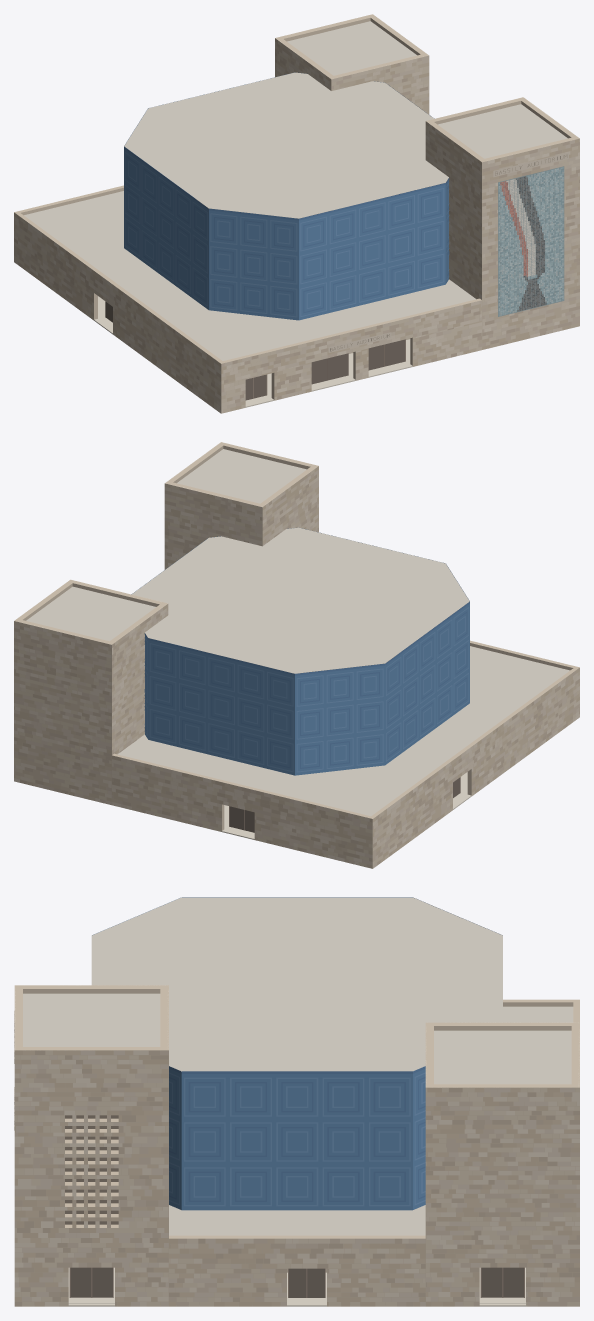
File: auc bassily auditorium.glb
3 views of the same model, one above another, from view 1: azimuth 30°, elevation 25°; view 2: azimuth 150°, elevation 25°; view 3: azimuth 270°, elevation 25° (orthographic). The views are drawn at different scales.
Visible parts, largest first — view 1: roof, blue, blue_hi, stone_base, stone_1, stone_0, stone_5, blue_lo, stone_2, stone_3, mosaic_border, stone_9 (+19 smaller); view 2: roof, blue, stone_base, stone_0, blue_hi, stone_1, stone_5, stone_2, stone_3, blue_lo, stone_9, stone_8 (+5 smaller); view 3: roof, blue, stone_base, stone_1, stone_5, stone_2, stone_0, stone_3, blue_hi, stone_8, stone_9, stone_6 (+6 smaller).
Boxes of the visible parts, x1,y1,x2,y2 form: roof: (17,21,567,368); blue: (124,147,449,320); blue_hi: (125,152,449,317); stone_base: (14,14,579,413); stone_1: (14,40,579,412); stone_0: (14,43,579,411); stone_5: (14,48,579,408); blue_lo: (124,72,449,313); stone_2: (14,45,579,410); stone_3: (14,19,579,413); mosaic_border: (498,166,564,316); stone_9: (14,54,579,409); roof: (26,449,569,816); blue: (144,603,469,775); stone_base: (14,442,579,868); stone_0: (14,466,579,868); blue_hi: (144,607,468,772); stone_1: (14,469,579,867); stone_5: (14,469,579,868); stone_2: (14,466,579,857); stone_3: (14,442,579,856); blue_lo: (131,528,469,768); stone_9: (14,480,577,864); stone_8: (14,472,579,861); roof: (23,897,573,1244); blue: (169,1068,425,1210); stone_base: (14,985,579,1306); stone_1: (14,1050,579,1306); stone_5: (14,1050,579,1306); stone_2: (14,1050,579,1306); stone_0: (14,1050,579,1306); stone_3: (14,985,579,1306); blue_hi: (169,1072,425,1206); stone_8: (14,1050,579,1306); stone_9: (14,1055,579,1301); stone_6: (14,1050,579,1306).
Bounding box in the file's own units: 44.01 × 22 × 44.06.
